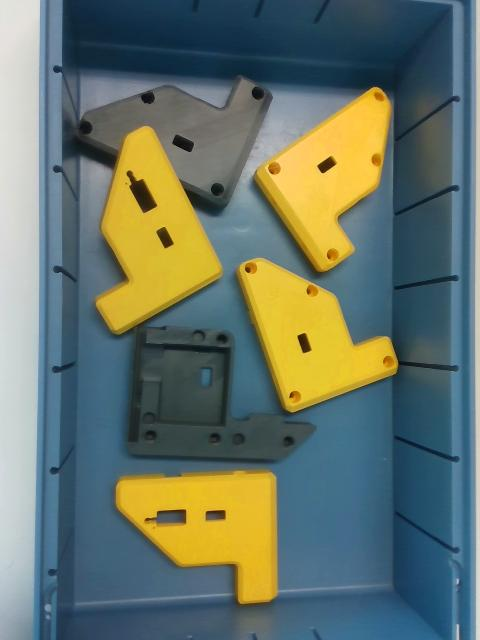1Agray: (78, 71, 275, 215)
1Ayellow: (228, 259, 401, 415), (253, 84, 394, 273)
1Byellow: (89, 123, 222, 336), (125, 324, 318, 462), (115, 469, 282, 605)
